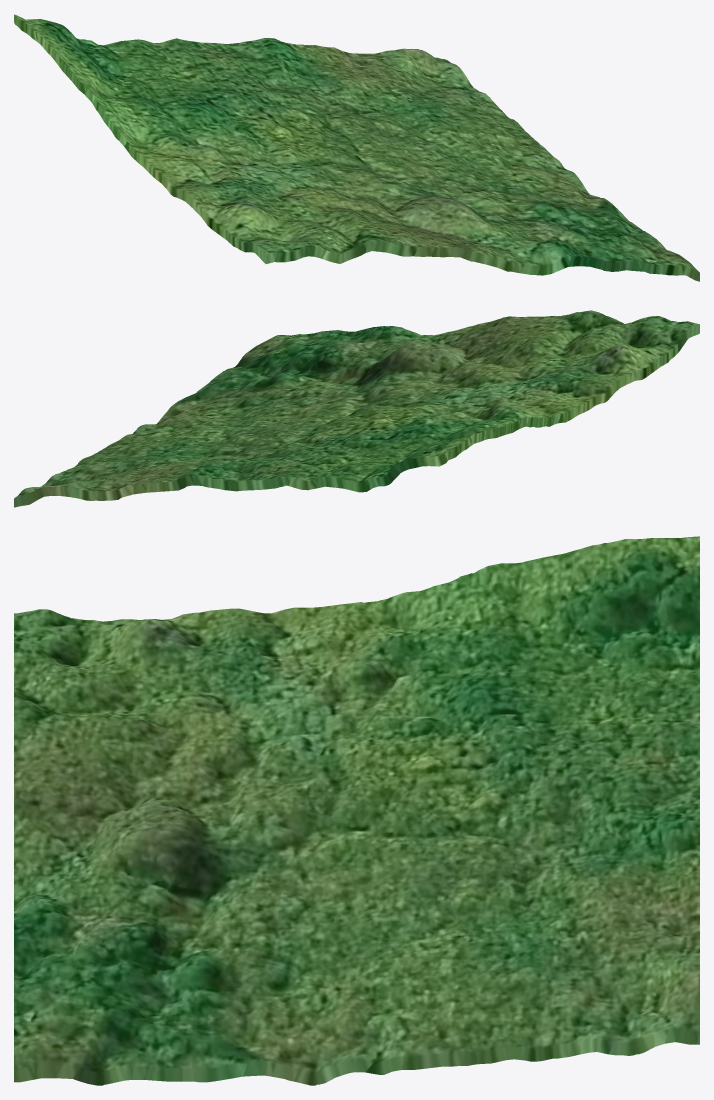
The model's file is z20-167557-405172-h0-yup-uvflip-v3-world.glb.
The picture shows the model from 3 angles, top to bottom: view 1: azimuth 30°, elevation 25°; view 2: azimuth 150°, elevation 25°; view 3: azimuth 270°, elevation 25°; orthographic projection. The views are drawn at different scales.
Bounding box in the file's own units: 30.16 × 12.72 × 30.32.
Materials: 1 (1 with a texture image).
